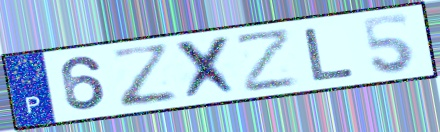5: (360, 10, 419, 77)
6: (58, 54, 110, 113)
L: (303, 25, 358, 84)
X: (173, 32, 243, 103)
Z: (107, 42, 182, 111), (233, 25, 300, 95)
